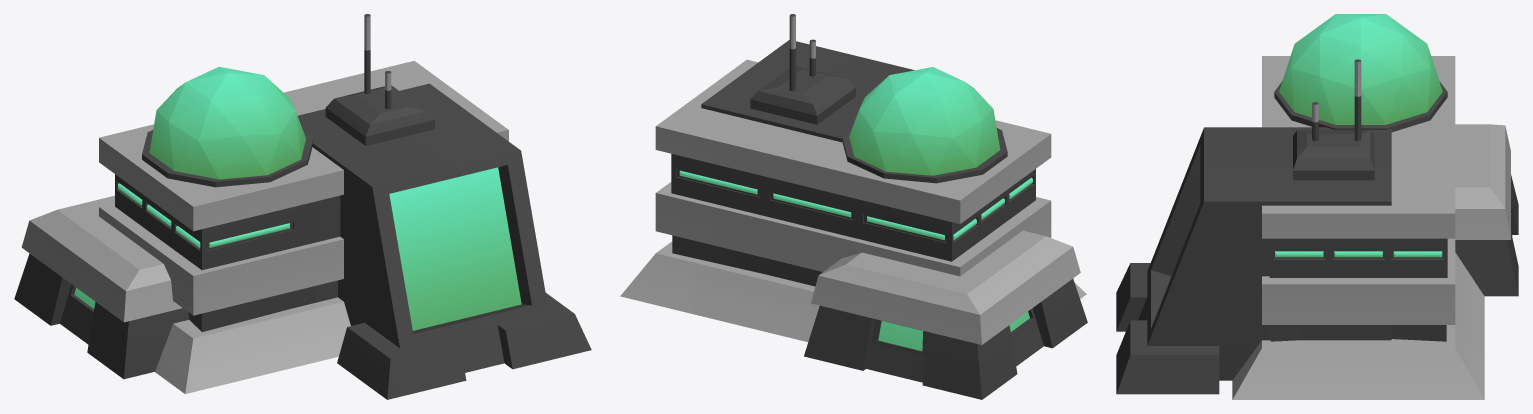
The model's file is Eco_hub.glb.
The picture shows the model from 3 angles, left to right: view 1: azimuth 30°, elevation 25°; view 2: azimuth 150°, elevation 25°; view 3: azimuth 270°, elevation 25°; orthographic projection. The views are drawn at different scales.
Parts seen in each view (by area): view 1: Eco_hub; view 2: Eco_hub; view 3: Eco_hub.
Boxes of the visible parts, box(x1,y1,x2,y2) form: Eco_hub: box(14, 14, 591, 399); Eco_hub: box(620, 14, 1087, 399); Eco_hub: box(1116, 14, 1518, 399).
Bounding box in the file's own units: 28.99 × 19.41 × 25.18.
2 materials, 2 textured.
